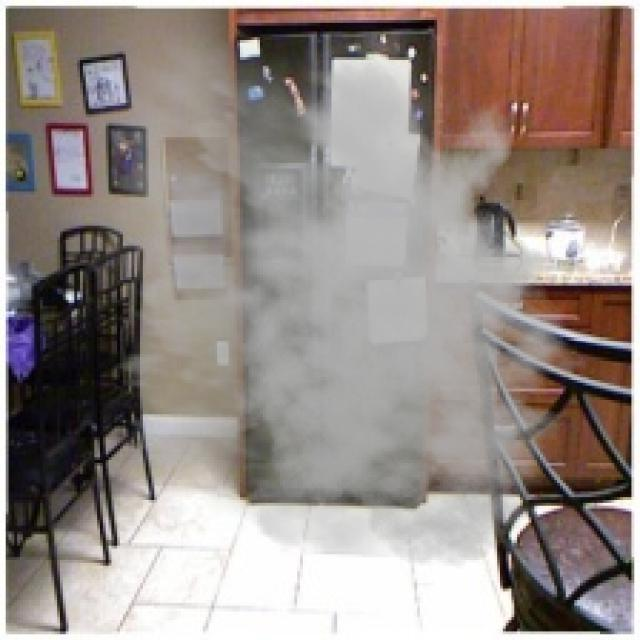Smoke: (54, 9, 603, 568)
